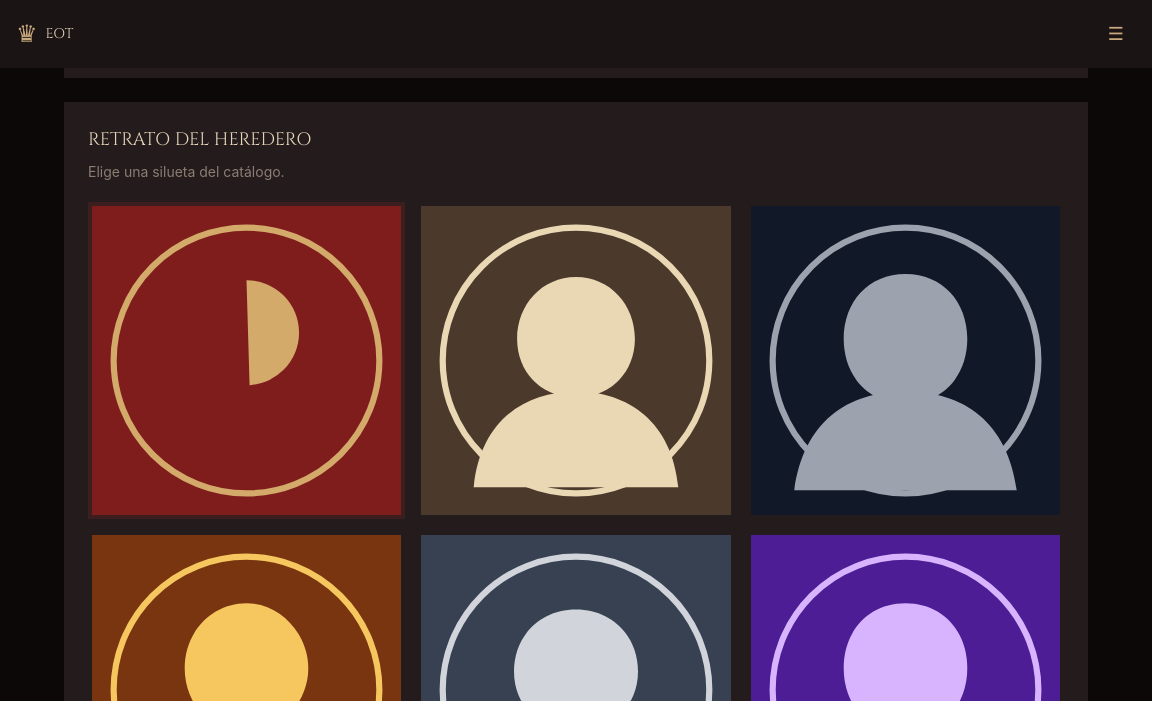
saves the portrait and updates the profile
The image size is (1152, 701).
(page scrolled)
Click the button named "Seleccionar silueta 3" at (905, 361), box [747, 202, 1064, 519]
(page scrolled)
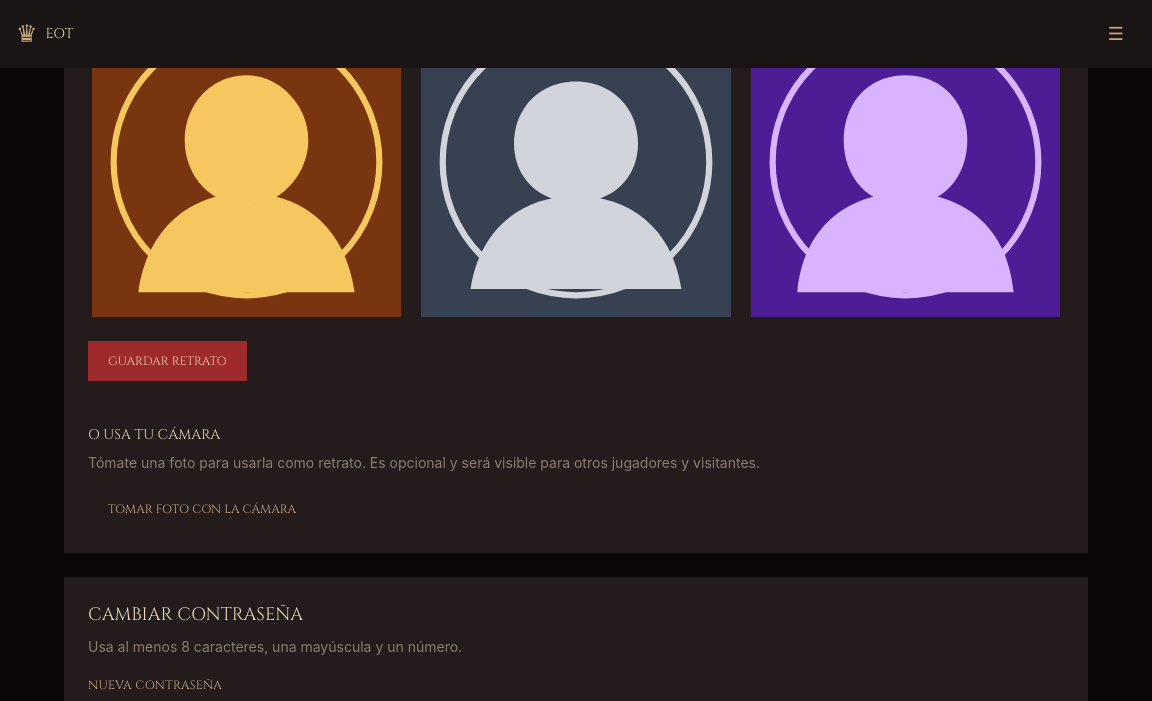
Click the button "Guardar retrato" at (167, 361), box [88, 341, 247, 381]
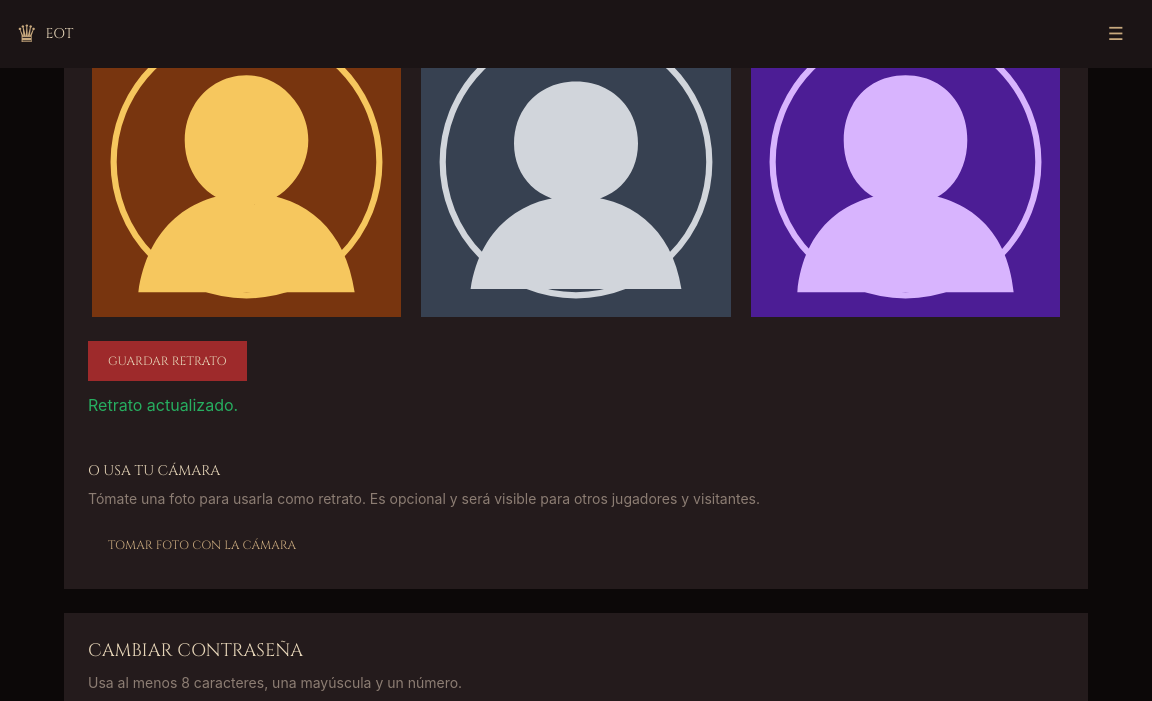
Check: the text "Retrato actualizado." is shown, box [88, 395, 238, 415]
